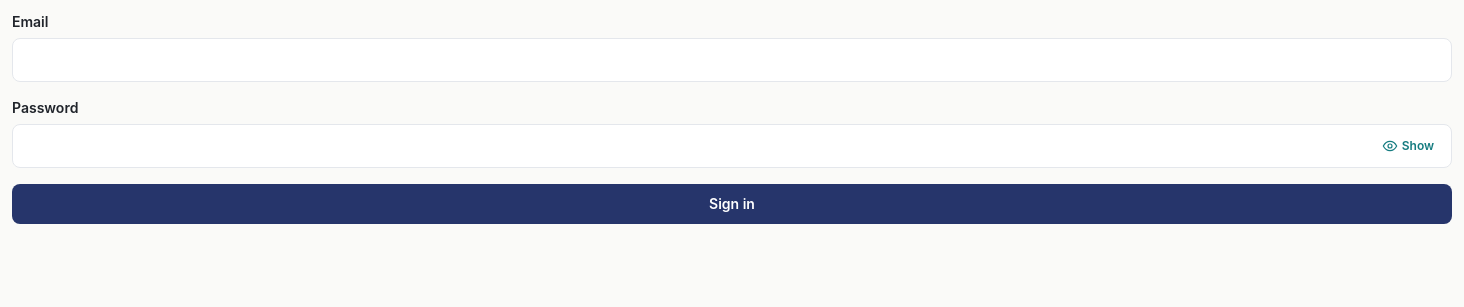
Scenario: exclusive customer and workforce UI sign-in flows › does not navigate on a rejected workforce login
In the field labelled "Email": (732, 60) [12,38,1452,82], type "person@example.test"
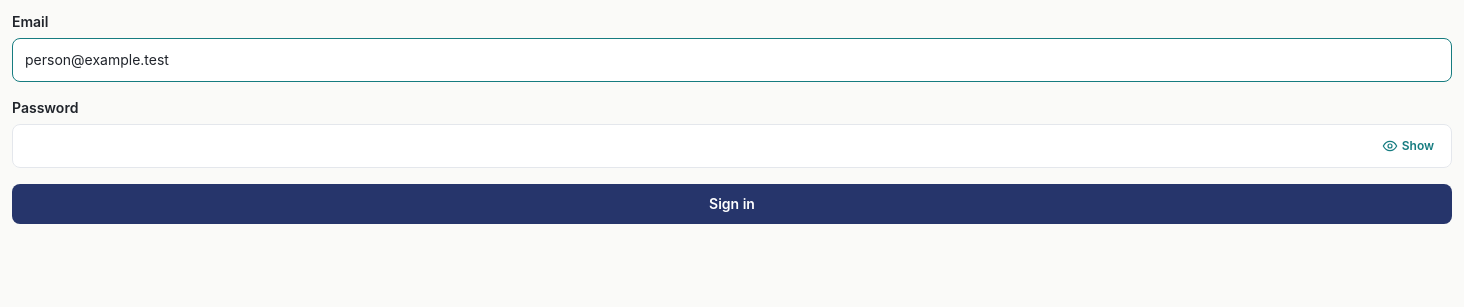
In the password field labelled "Password": (732, 146) [12,124,1452,168], type "LongEnoughPassword!9"
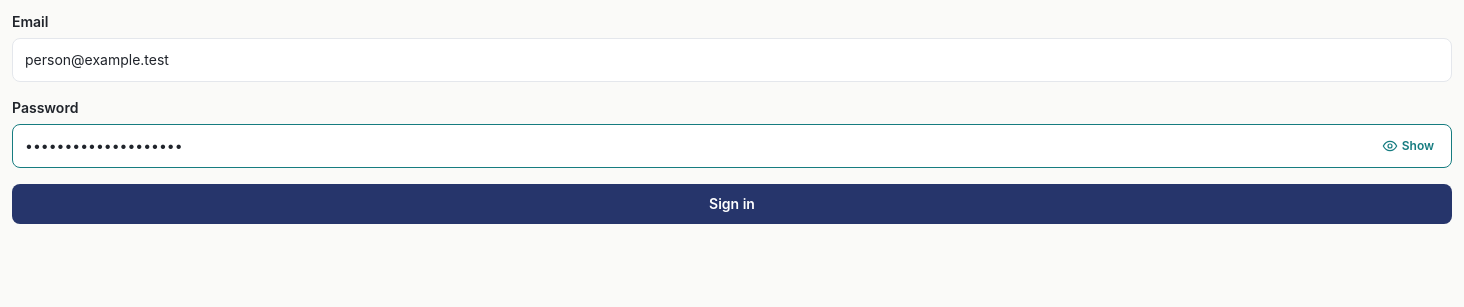
Click the button "Sign in": (732, 204) [12,184,1452,224]
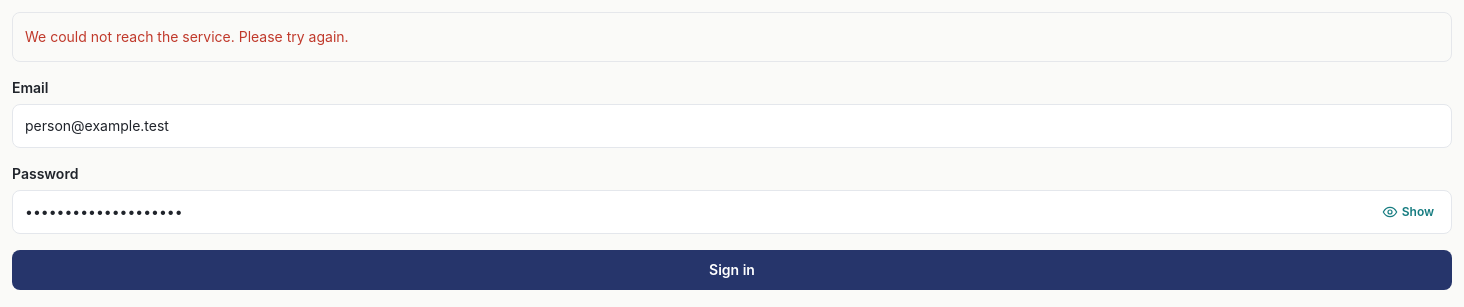
Expected: the text "We could not reach the service. Please try again." is shown, [12,12,1452,62]
